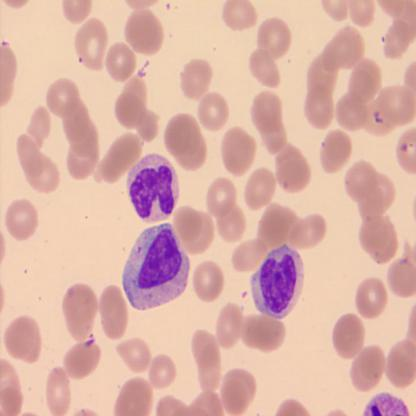Metamyelocyte: (120, 220, 191, 311), (249, 242, 306, 320)
